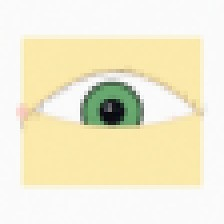pinguecula_lesion: (139, 96, 177, 126)
